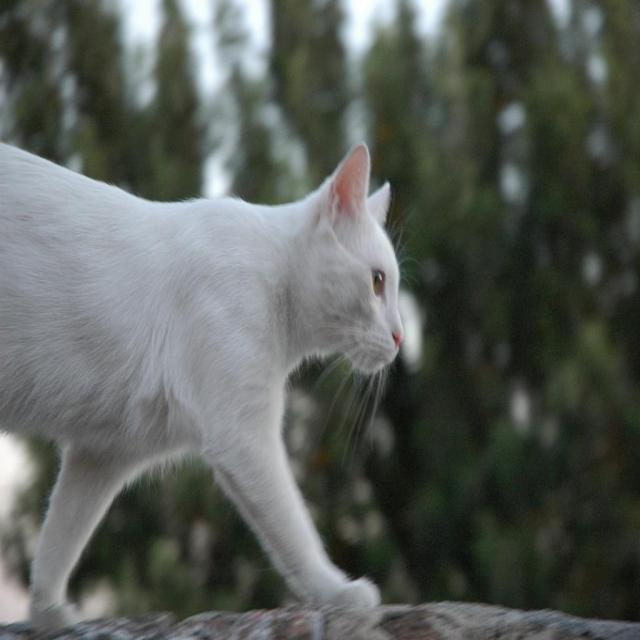Cat: (0, 141, 427, 635)
